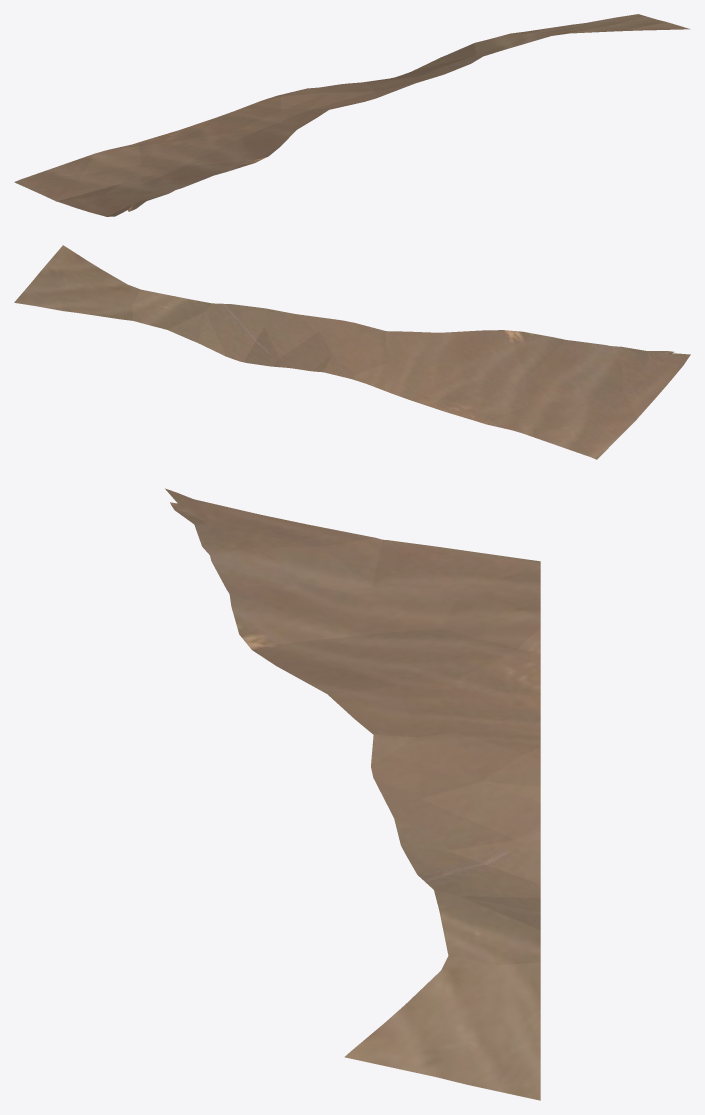
3 renders of one model, top to bottom at view 1: azimuth 30°, elevation 25°; view 2: azimuth 150°, elevation 25°; view 3: azimuth 270°, elevation 25°, orthographic. The views are drawn at different scales.
Size of the model in its own units: 1.04 by 0.0625 by 0.2917.
1 material, 1 textured.
